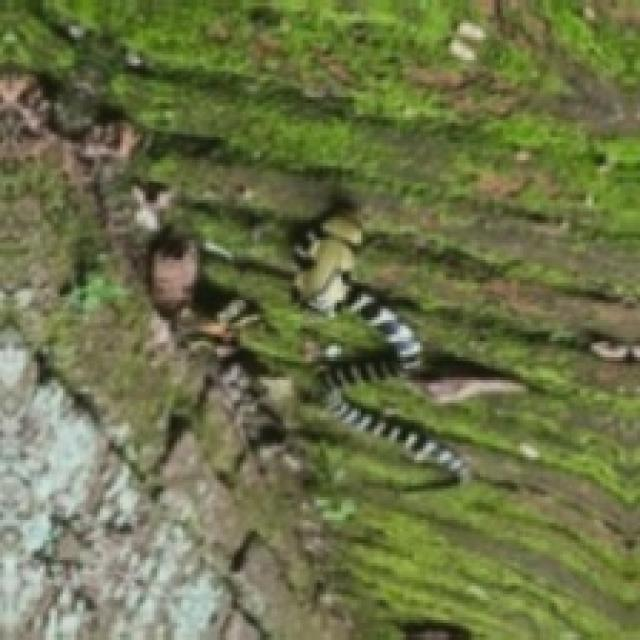king cobra: (266, 200, 466, 480), (291, 203, 466, 477), (149, 226, 257, 314)
